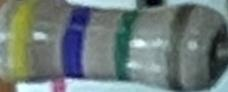Blue: (56, 2, 99, 81)
Green: (111, 9, 145, 85)
Side-Silver: (166, 4, 201, 91)
Yellow: (11, 1, 41, 82)
